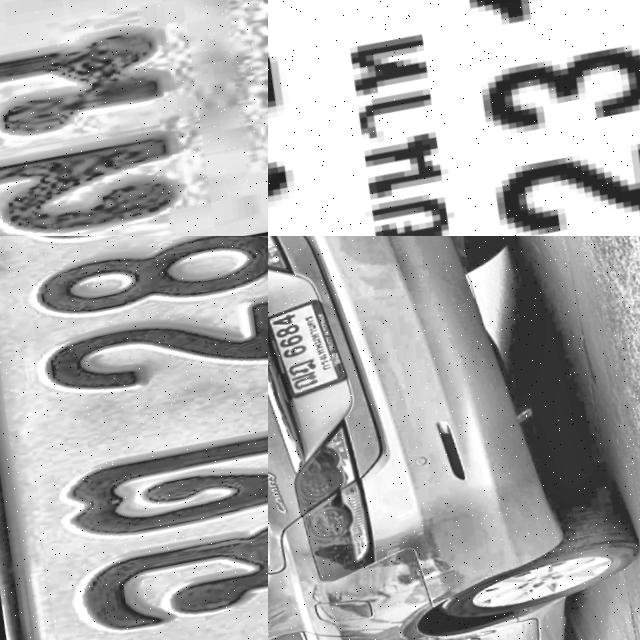license-plate: (0, 236, 268, 640), (268, 0, 640, 236), (0, 0, 268, 236), (268, 293, 356, 401)
